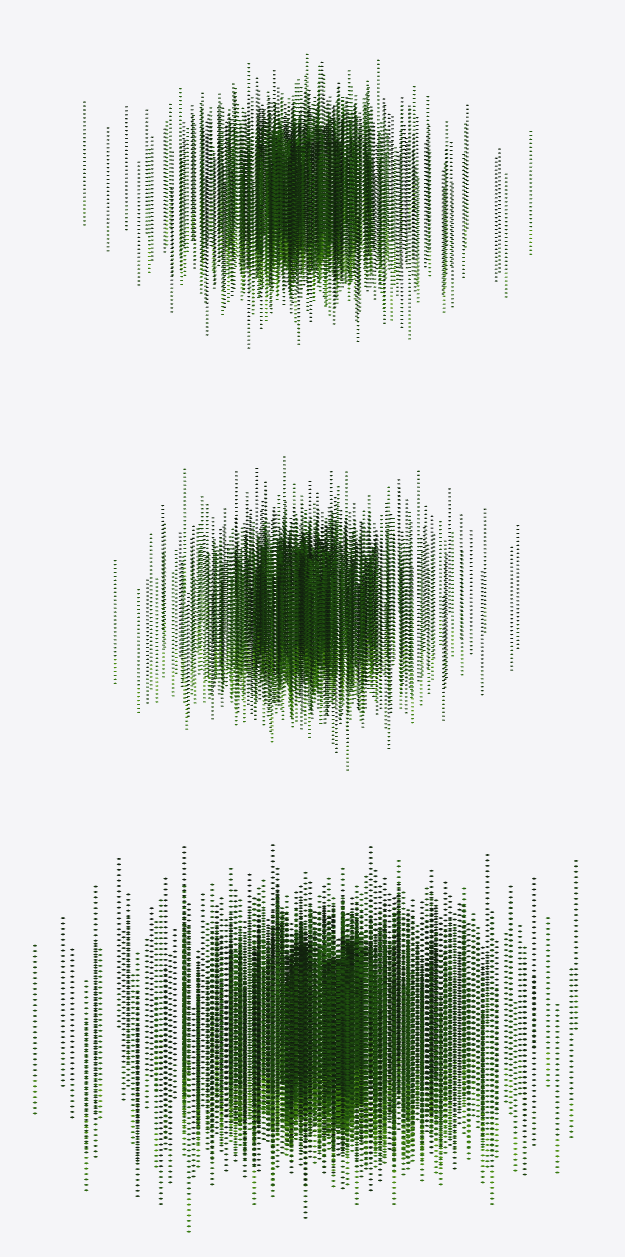
The model's file is mattenbies_1.fbx.
3 renders of one model, top to bottom at view 1: azimuth 30°, elevation 25°; view 2: azimuth 150°, elevation 25°; view 3: azimuth 270°, elevation 25°, orthographic. The views are drawn at different scales.
Parts seen in each view (by area): view 1: mattenbies_1; view 2: mattenbies_1; view 3: mattenbies_1.
Part boxes in pixels (<box>): mattenbies_1: <box>83,53,532,348</box>; mattenbies_1: <box>113,456,519,770</box>; mattenbies_1: <box>33,844,577,1232</box>.
Size of the model in its own units: 900 by 279 by 900.
